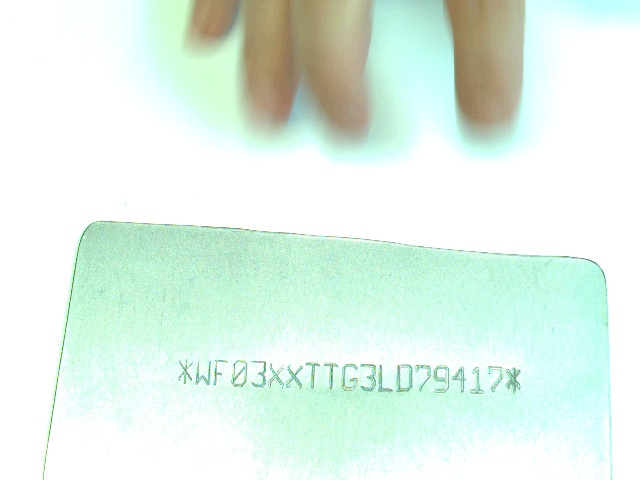0: (231, 358, 249, 388)
1: (468, 363, 486, 396)
3: (248, 358, 268, 389), (358, 362, 377, 392)
4: (452, 364, 469, 395)
7: (414, 362, 434, 393), (487, 364, 505, 395)
9: (434, 364, 451, 393)
d: (394, 362, 414, 394)
f: (212, 357, 228, 385)
g: (340, 361, 359, 390)
l: (375, 362, 394, 393)
t: (322, 360, 340, 390), (305, 361, 321, 388)
w: (195, 358, 212, 385)
x: (285, 361, 303, 390), (268, 361, 284, 388)
